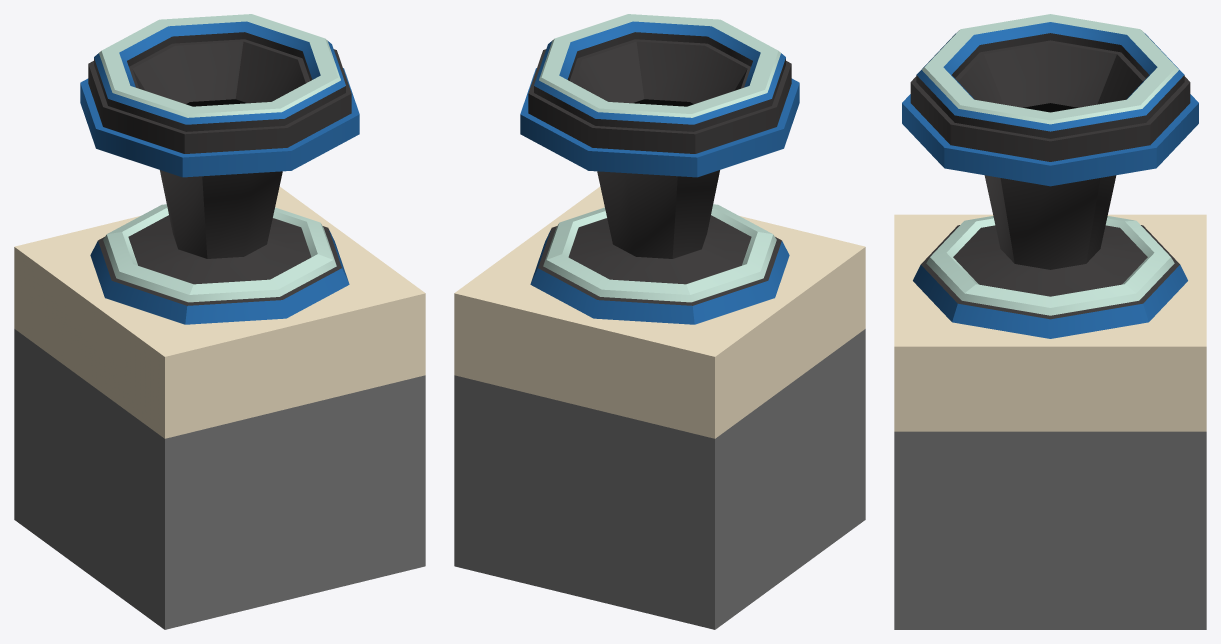
Rendered from SnowTorchBlender.glb.
3 views of the same model, side by side, from view 1: azimuth 30°, elevation 25°; view 2: azimuth 150°, elevation 25°; view 3: azimuth 270°, elevation 25° (orthographic). The views are drawn at different scales.
Parts seen in each view (by area): view 1: WinterGroundRockSnow, WinterBrazier_v2; view 2: WinterGroundRockSnow, WinterBrazier_v2; view 3: WinterGroundRockSnow, WinterBrazier_v2.
Part boxes in pixels (x1,y1,x2,y2): WinterGroundRockSnow: (14,186,425,629); WinterBrazier_v2: (80,14,359,324); WinterGroundRockSnow: (454,186,865,629); WinterBrazier_v2: (520,14,799,324); WinterGroundRockSnow: (894,214,1206,629); WinterBrazier_v2: (902,14,1198,338).
Size of the model in its own units: 2 by 3.51 by 2.
1 material, 1 textured.
